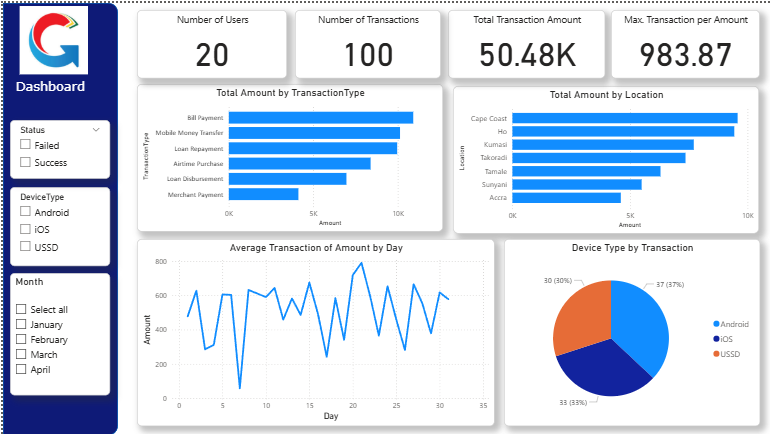

Layout of this report page (visuals, bound fields, positions):
{"tool":"powerbi","page":{"name":"GhanaPay","canvas":[1280,720],"ordinal":0},"visuals":[{"type":"shape","box":[0,0,191.6,720.3],"z":0},{"type":"clusteredBarChart","title":"Total Amount by TransactionType","fields":{"Category":["main_data.TransactionType"],"Y":["Sum(main_data.Amount)"]},"box":[223.9,135.6,510,246.3],"z":1000},{"type":"slicer","fields":{"Values":["main_data.DeviceType"]},"box":[12.4,306.5,166.7,131.9],"z":2000},{"type":"slicer","fields":{"Values":["main_data.Status"]},"box":[12.4,194.5,166.7,98.3],"z":3000},{"type":"listSlicer","fields":{"Values":["main_data.Timestamp.Variation.Date Hierarchy.Month"]},"box":[12.4,450.8,166.7,204],"z":4000},{"type":"clusteredBarChart","title":"Total Amount by Location","fields":{"Category":["main_data.Location"],"Y":["Sum(main_data.Amount)"]},"box":[750.1,138.1,510,246.3],"z":5000},{"type":"card","title":"Number of Users","fields":{"Values":["Count(main_data.CustomerID)"]},"box":[223.9,12.4,250,114.4],"z":6000},{"type":"card","title":"Total Transaction Amount","fields":{"Values":["Sum(main_data.Amount)"]},"box":[741.4,12.4,262.5,114.4],"z":7000},{"type":"card","title":"Number of Transactions","fields":{"Values":["CountNonNull(main_data.Amount)"]},"box":[486.4,12.4,242.6,114.4],"z":8000},{"type":"card","title":"Max. Transaction per Amount","fields":{"Values":["Max(main_data.Amount)"]},"box":[1013.8,12.4,247.5,114.4],"z":9000},{"type":"lineChart","title":"Average Transaction of Amount by Day","fields":{"Y":["Avg(main_data.Amount)"],"Category":["main_data.Timestamp.Variation.Date Hierarchy.Day"]},"box":[223.9,393.1,595.9,312.2],"z":10000},{"type":"pieChart","title":"Device Type by Transaction","fields":{"Category":["main_data.DeviceType"],"Y":["CountNonNull(main_data.DeviceType)"],"Series":["main_data.DeviceType"]},"box":[834.7,393.1,426.7,312.2],"z":11000},{"type":"textbox","title":"Dashboard ","box":[12.4,124.4,134.3,27.4],"z":12000},{"type":"image","box":[6.2,0,155.4,123.8],"z":12001}]}

Visuals, with their boxes in screenshot pixels (x1, y1, x2, y2), scaled from the page's 1280x720 canvas onto the 770x434 screenshot:
shape: [0, 0, 115, 433]
"Total Amount by TransactionType" clusteredBarChart: [135, 82, 441, 230]
slicer - main_data.DeviceType: [7, 185, 108, 264]
slicer - main_data.Status: [7, 117, 108, 176]
listSlicer - main_data.Timestamp.Variation.Date Hierarchy.Month: [7, 272, 108, 395]
"Total Amount by Location" clusteredBarChart: [451, 83, 758, 232]
"Number of Users" card: [135, 7, 285, 76]
"Total Transaction Amount" card: [446, 7, 604, 76]
"Number of Transactions" card: [293, 7, 439, 76]
"Max. Transaction per Amount" card: [610, 7, 759, 76]
"Average Transaction of Amount by Day" lineChart: [135, 237, 493, 425]
"Device Type by Transaction" pieChart: [502, 237, 759, 425]
"Dashboard " textbox: [7, 75, 88, 92]
image: [4, 0, 97, 75]
